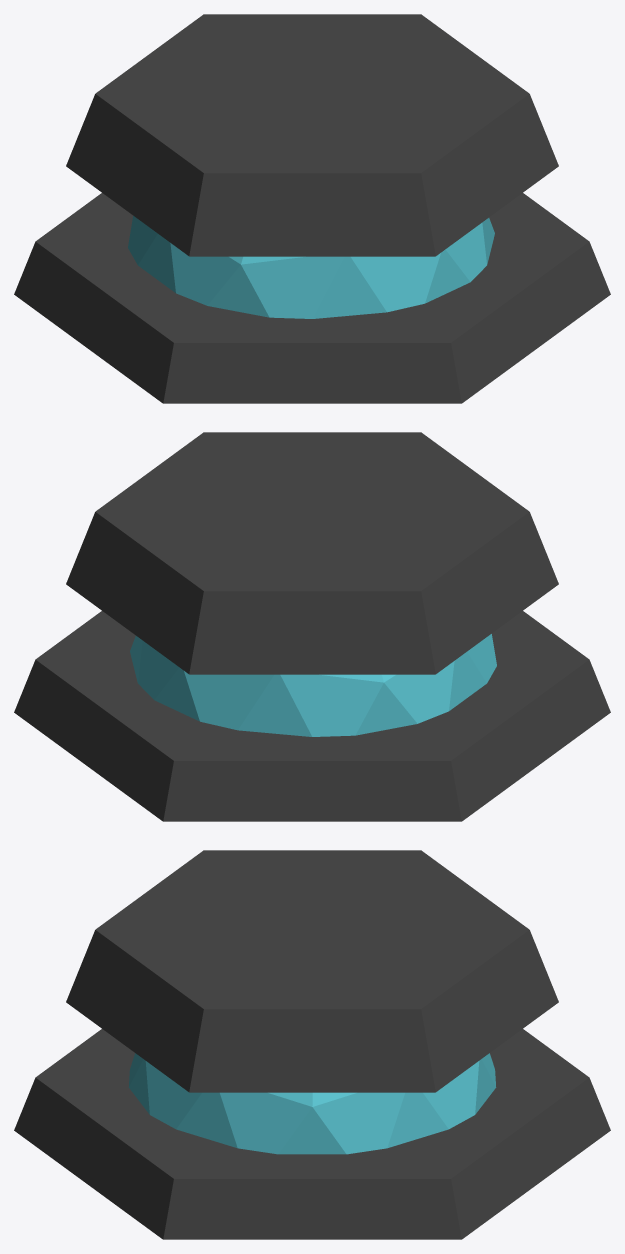
The model's file is LAMPADAIRE_02.fbx.
3 views of the same model, one above another, from view 1: azimuth 30°, elevation 25°; view 2: azimuth 150°, elevation 25°; view 3: azimuth 270°, elevation 25° (orthographic).
Visible parts, largest first — view 1: Cylinder, Icosphere; view 2: Cylinder, Icosphere; view 3: Cylinder, Icosphere.
Part boxes in pixels (x1=…): Cylinder: x1=14, y1=14, x2=610, y2=403; Icosphere: x1=128, y1=216, x2=494, y2=318; Cylinder: x1=14, y1=432, x2=610, y2=821; Icosphere: x1=130, y1=634, x2=496, y2=736; Cylinder: x1=14, y1=850, x2=610, y2=1239; Icosphere: x1=128, y1=1053, x2=496, y2=1154.
Size of the model in its own units: 238 by 102 by 275.
